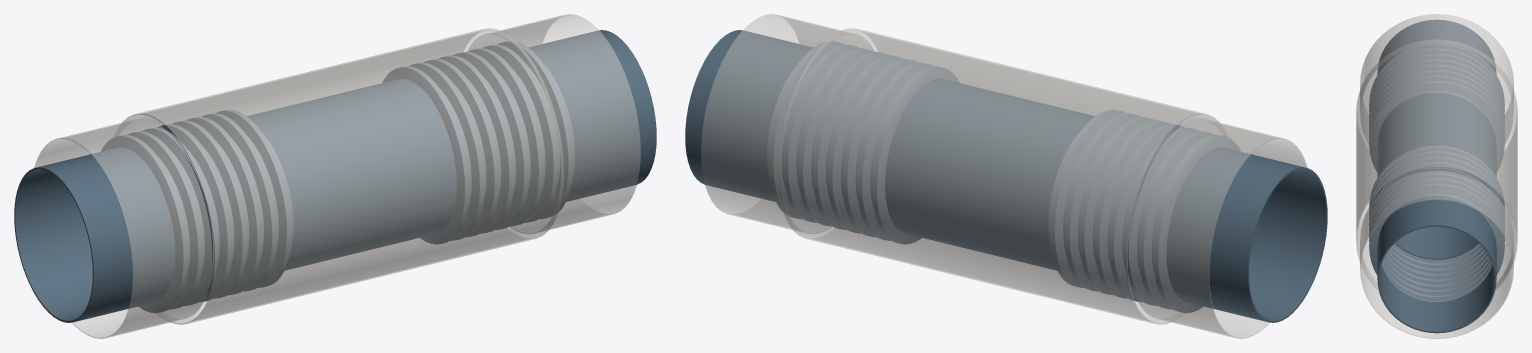
Rendered from 2ppu-dn600-L2572-D630-k-o856.glb.
3 renders of one model, left to right at view 1: azimuth 30°, elevation 25°; view 2: azimuth 150°, elevation 25°; view 3: azimuth 270°, elevation 25°, orthographic. The views are drawn at different scales.
Parts seen in each view (by area): view 1: uslovno_kozhuh_ppu, prokladka_silfon_1, prokladka_silfon_2, patrubok_1, uslovno_obolochka_l, uslovno_obolochka_r, patrubok_3, patrubok_4, patrubok_2; view 2: uslovno_kozhuh_ppu, prokladka_silfon_1, prokladka_silfon_2, patrubok_1, uslovno_obolochka_l, uslovno_obolochka_r, patrubok_3, patrubok_4, patrubok_2; view 3: uslovno_kozhuh_ppu, prokladka_silfon_2, patrubok_4, prokladka_silfon_1, uslovno_obolochka_r, uslovno_obolochka_l, patrubok_3, patrubok_2, patrubok_1.
Boxes of the visible parts, box(x1,y1,x2,y2) form: uslovno_kozhuh_ppu: box(119, 28, 563, 324); prokladka_silfon_1: box(101, 109, 293, 313); prokladka_silfon_2: box(382, 41, 574, 244); patrubok_1: box(14, 147, 175, 322); uslovno_obolochka_l: box(34, 118, 212, 338); uslovno_obolochka_r: box(468, 14, 640, 233); patrubok_3: box(318, 79, 456, 252); patrubok_4: box(528, 30, 656, 201); patrubok_2: box(247, 98, 375, 270); uslovno_kozhuh_ppu: box(778, 28, 1222, 324); prokladka_silfon_1: box(1048, 109, 1240, 313); prokladka_silfon_2: box(767, 41, 959, 244); patrubok_1: box(1166, 147, 1327, 322); uslovno_obolochka_l: box(1129, 118, 1307, 338); uslovno_obolochka_r: box(701, 14, 873, 233); patrubok_3: box(885, 79, 1023, 252); patrubok_4: box(685, 30, 813, 201); patrubok_2: box(966, 98, 1094, 270); uslovno_kozhuh_ppu: box(1356, 39, 1517, 289); prokladka_silfon_2: box(1369, 145, 1504, 301); patrubok_4: box(1377, 195, 1496, 333); prokladka_silfon_1: box(1369, 43, 1504, 171); uslovno_obolochka_r: box(1360, 170, 1513, 338); uslovno_obolochka_l: box(1360, 14, 1513, 143); patrubok_3: box(1377, 122, 1496, 259); patrubok_2: box(1377, 92, 1496, 228); patrubok_1: box(1377, 19, 1496, 74).
Size of the model in its own units: 2572 by 856 by 856.
